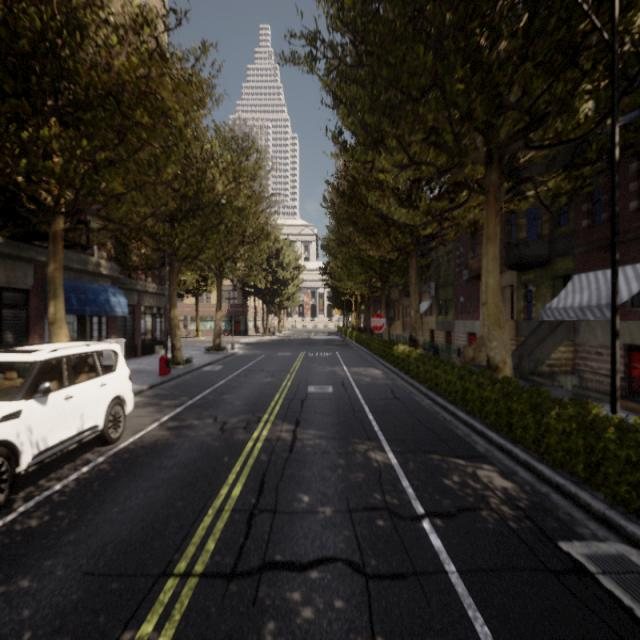stop sign: (368, 307, 387, 335)
